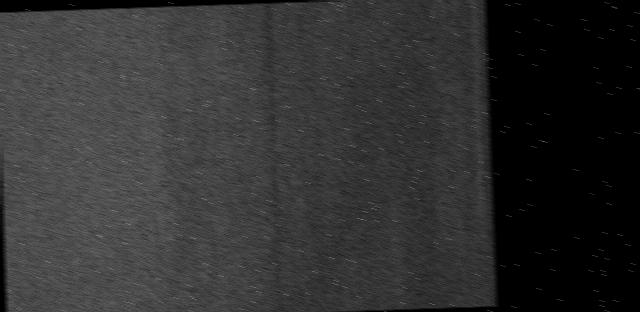water_spot: (254, 1, 301, 279)
